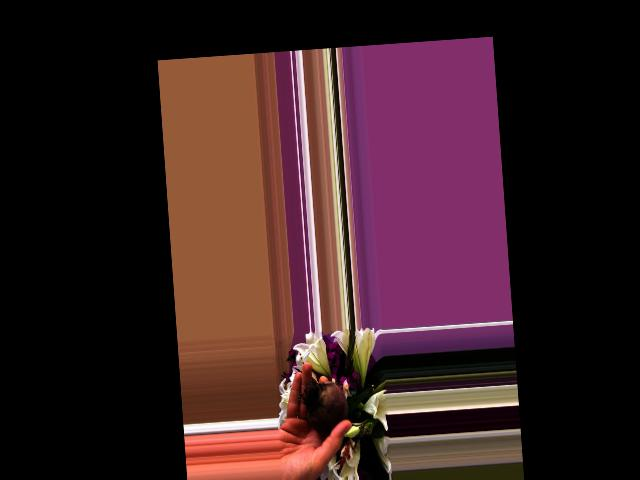beet: (303, 376, 370, 436)
